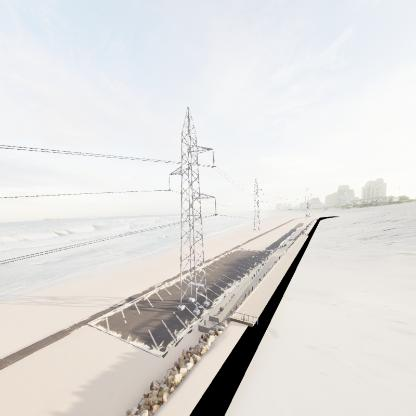tower: (162, 105, 222, 320)
